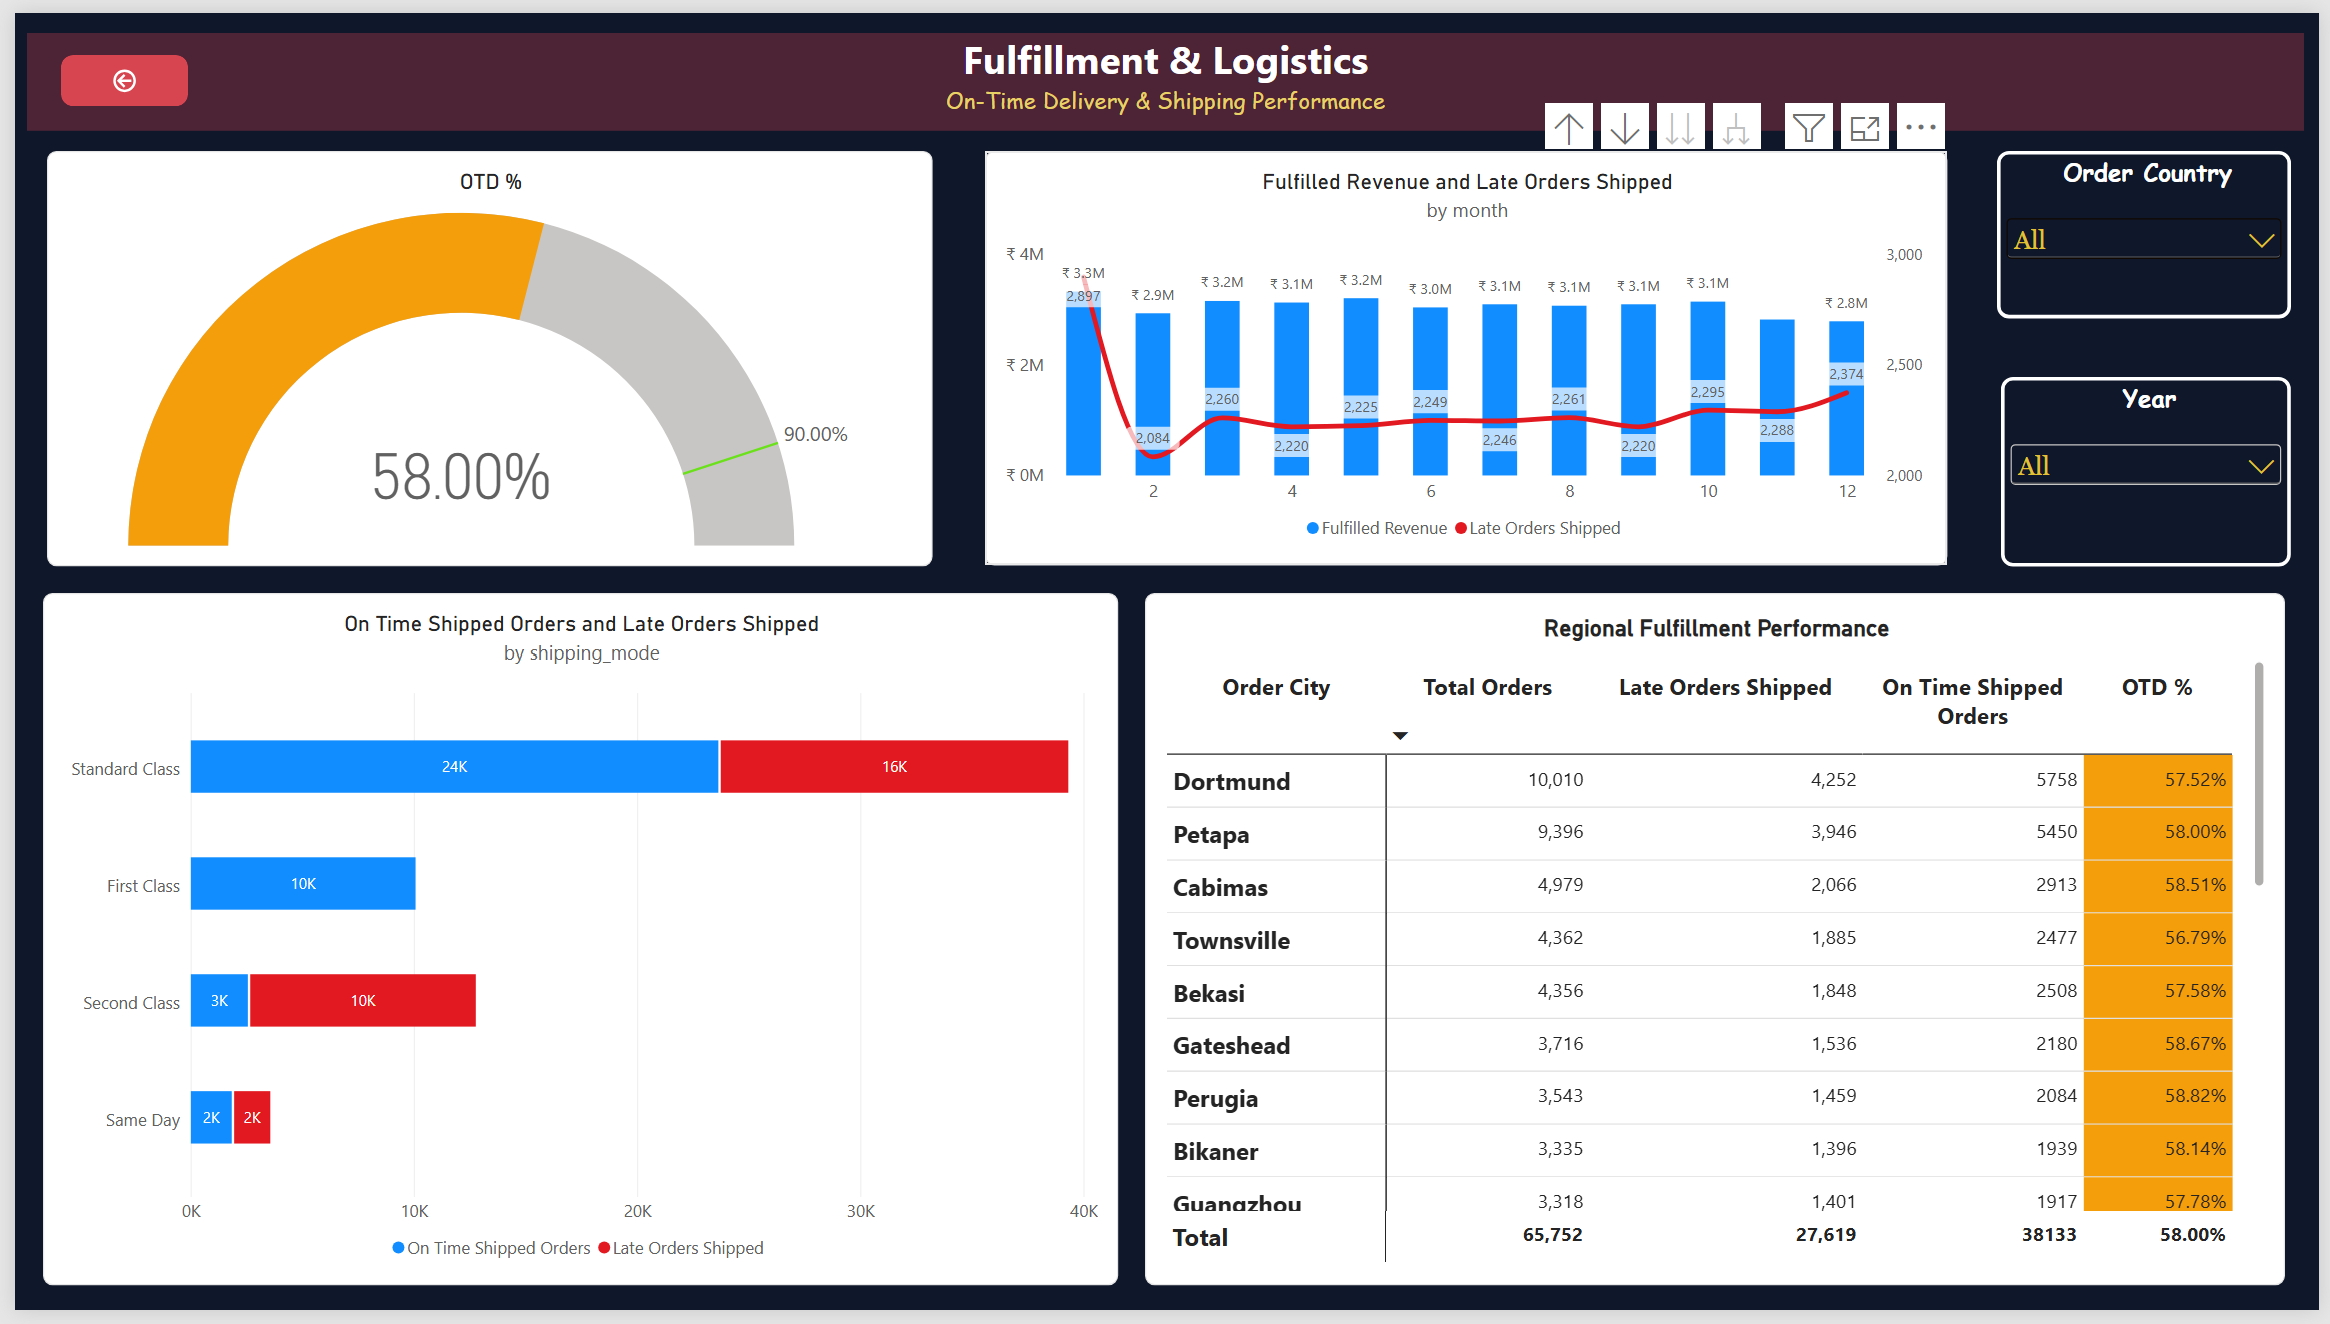

The dashboard page shown, as its layout file describes it:
{"tool":"powerbi","page":{"name":"Fulfillment & Logistics","canvas":[1920,1080],"ordinal":2},"visuals":[{"type":"textbox","box":[9.3,16.7,1897.7,81.7],"z":0},{"type":"actionButton","box":[39,35.3,105.8,42.7],"z":1000},{"type":"slicer","title":"Year","fields":{"Values":["dim_date.Year"]},"box":[1655.6,302.7,241.4,157.8],"z":2000},{"type":"slicer","title":"Order Country","fields":{"Values":["dim_warehouse.order_country"]},"box":[1651.9,115.1,245.1,139.3],"z":3000},{"type":"gauge","fields":{"Y":["_measure.OTD Performance"]},"box":[26,115.1,738,346],"z":4000},{"type":"lineClusteredColumnComboChart","fields":{"Category":["dim_date.Year","dim_date.month"],"Y":["_measure.Fulfilled Revenue"],"Y2":["_measure.Late Orders Shipped"]},"box":[807.7,115.1,802.2,345.4],"z":5000},{"type":"barChart","fields":{"Category":["dim_carriers.shipping_mode"],"Y":["_measure.On Time Shipped Orders","_measure.shipped_late_orders"]},"box":[24,484,896,576],"z":6000},{"type":"pivotTable","title":"Regional Fulfillment Performance","fields":{"Rows":["dim_warehouse.order_city"],"Values":["_measure.Total Orders Placed","_measure.shipped_late_orders","_measure.On Time Shipped Orders","_measure.OTD Performance"]},"box":[942,484,950,576],"z":7000}]}

Visuals, with their boxes in screenshot pixels (x1, y1, x2, y2), scaled from the page's 1920x1080 canvas onto the 2330x1324 screenshot:
textbox: {"x1": 11, "y1": 20, "x2": 2314, "y2": 121}
actionButton: {"x1": 47, "y1": 43, "x2": 176, "y2": 96}
"Year" slicer: {"x1": 2009, "y1": 371, "x2": 2302, "y2": 565}
"Order Country" slicer: {"x1": 2005, "y1": 141, "x2": 2302, "y2": 312}
gauge - _measure.OTD Performance: {"x1": 32, "y1": 141, "x2": 927, "y2": 565}
lineClusteredColumnComboChart - dim_date.Year x dim_date.month: {"x1": 980, "y1": 141, "x2": 1954, "y2": 565}
barChart - dim_carriers.shipping_mode x _measure.On Time Shipped Orders: {"x1": 29, "y1": 593, "x2": 1116, "y2": 1299}
"Regional Fulfillment Performance" pivotTable: {"x1": 1143, "y1": 593, "x2": 2296, "y2": 1299}
